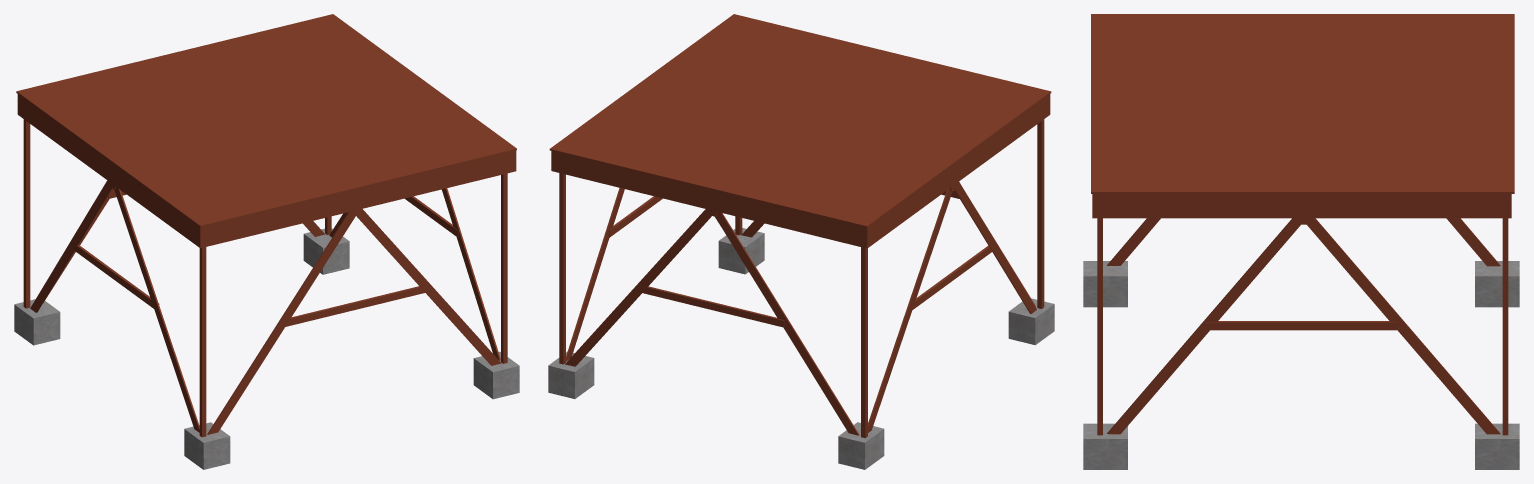
Rendered from стойккеека.fbx.
3 renders of one model, left to right at view 1: azimuth 30°, elevation 25°; view 2: azimuth 150°, elevation 25°; view 3: azimuth 270°, elevation 25°, orthographic. The views are drawn at different scales.
Visible parts, largest first — view 1: Cube.026, Cube.027, Cube.044, Cube.031, Cube.028, Cube.034, Cube.035, Cube.040, Cube.041, Cube.043, Cube.042, Cube.039; view 2: Cube.026, Cube.030, Cube.044, Cube.031, Cube.028, Cube.037, Cube.036, Cube.041, Cube.043, Cube.040, Cube.042, Cube.038; view 3: Cube.026, Cube.029, Cube.044, Cube.038, Cube.039, Cube.031, Cube.042, Cube.041, Cube.040.
Boxes of the visible parts, x1=… form: Cube.026: x1=16, y1=14, x2=516, y2=227; Cube.027: x1=198, y1=150, x2=516, y2=248; Cube.044: x1=14, y1=228, x2=519, y2=469; Cube.031: x1=23, y1=119, x2=507, y2=437; Cube.028: x1=18, y1=94, x2=198, y2=246; Cube.034: x1=207, y1=211, x2=356, y2=434; Cube.035: x1=355, y1=209, x2=501, y2=365; Cube.040: x1=114, y1=187, x2=199, y2=432; Cube.041: x1=30, y1=180, x2=111, y2=312; Cube.043: x1=108, y1=190, x2=425, y2=326; Cube.042: x1=74, y1=196, x2=458, y2=308; Cube.039: x1=441, y1=188, x2=500, y2=360; Cube.026: x1=549, y1=14, x2=1051, y2=227; Cube.030: x1=551, y1=151, x2=867, y2=248; Cube.044: x1=548, y1=228, x2=1054, y2=469; Cube.031: x1=559, y1=119, x2=1044, y2=438; Cube.028: x1=867, y1=95, x2=1048, y2=248; Cube.037: x1=715, y1=212, x2=859, y2=435; Cube.036: x1=565, y1=209, x2=711, y2=366; Cube.041: x1=868, y1=188, x2=952, y2=432; Cube.043: x1=639, y1=190, x2=959, y2=327; Cube.040: x1=954, y1=182, x2=1036, y2=313; Cube.042: x1=609, y1=196, x2=992, y2=309; Cube.038: x1=566, y1=188, x2=624, y2=361; Cube.026: x1=1091, y1=14, x2=1514, y2=193; Cube.029: x1=1096, y1=194, x2=1511, y2=218; Cube.044: x1=1083, y1=261, x2=1519, y2=469; Cube.038: x1=1307, y1=218, x2=1500, y2=434; Cube.039: x1=1107, y1=218, x2=1300, y2=434; Cube.031: x1=1097, y1=218, x2=1508, y2=435; Cube.042: x1=1206, y1=321, x2=1397, y2=330; Cube.041: x1=1446, y1=218, x2=1500, y2=266; Cube.040: x1=1107, y1=218, x2=1160, y2=265.
Bounding box in the file's own units: 823 × 600 × 852.
Materials: 2 (1 with a texture image).
